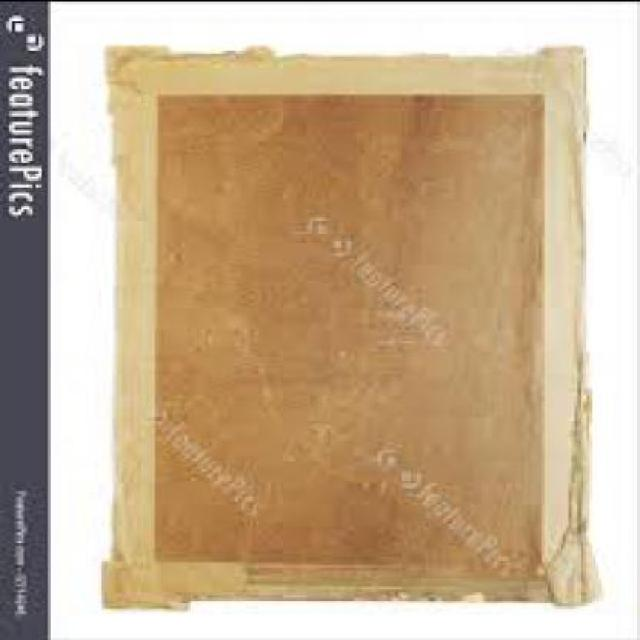CARDBOARD: (99, 41, 602, 607)
